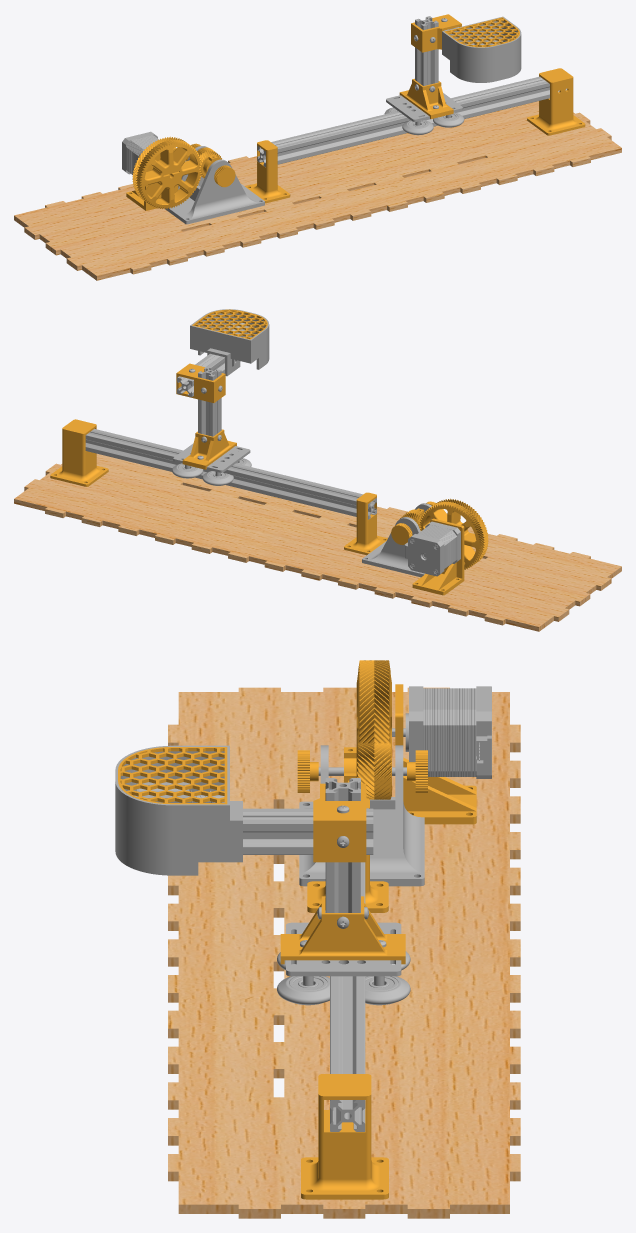
Rendered from foosball-concept.glb.
3 views of the same model, one above another, from view 1: azimuth 30°, elevation 25°; view 2: azimuth 150°, elevation 25°; view 3: azimuth 270°, elevation 25° (orthographic). The views are drawn at different scales.
Parts seen in each view (by area): view 1: Base final v1-1, Perfil40Cm-1, EngraneGrandeV3-1, BodyV4-1, SoporteEngraneChiquitoV3-1, AjustadorV4-1, TapaGolpeadorV5-1, SoportePerfil-1, DeslizadorSoportePerfilV4-1, Perfil10Cm-1, PerfilParaPerfil-1, Motor-1 (+4 smaller); view 2: Base final v1-1, Perfil40Cm-1, BodyV4-1, Motor-1, AjustadorV4-1, EngraneGrandeV3-1, SoporteEngraneChiquitoV3-1, TapaGolpeadorV5-1, SoportePerfil-1, SoporteMotorChiquitov2-1, DeslizadorSoportePerfilV4-1, PerfilParaPerfil-1 (+3 smaller); view 3: Base final v1-1, BodyV4-1, Motor-1, AjustadorV4-1, SoporteEngraneChiquitoV3-1, TapaGolpeadorV5-1, DeslizadorSoportePerfilV4-1, Perfil40Cm-1, Perfil10Cm-2, SoporteMotorChiquitov2-1, PerfilParaPerfil-1, EngraneGrandeV3-1 (+7 smaller).
Part boxes in pixels (x1,y1,x2,y2): Base final v1-1: [14, 101, 621, 280]; Perfil40Cm-1: [257, 76, 567, 167]; EngraneGrandeV3-1: [132, 136, 201, 209]; BodyV4-1: [442, 16, 521, 82]; SoporteEngraneChiquitoV3-1: [165, 146, 264, 224]; AjustadorV4-1: [527, 68, 585, 135]; TapaGolpeadorV5-1: [444, 17, 519, 47]; SoportePerfil-1: [245, 140, 290, 203]; DeslizadorSoportePerfilV4-1: [399, 78, 453, 118]; Perfil10Cm-1: [415, 16, 438, 85]; PerfilParaPerfil-1: [411, 14, 461, 52]; Motor-1: [122, 131, 159, 174]; Base final v1-1: [14, 453, 621, 631]; Perfil40Cm-1: [85, 429, 376, 519]; BodyV4-1: [190, 309, 269, 369]; Motor-1: [404, 521, 460, 576]; AjustadorV4-1: [50, 419, 108, 486]; EngraneGrandeV3-1: [419, 498, 488, 569]; SoporteEngraneChiquitoV3-1: [362, 503, 431, 577]; TapaGolpeadorV5-1: [192, 309, 267, 339]; SoportePerfil-1: [344, 492, 387, 555]; SoporteMotorChiquitov2-1: [412, 518, 464, 595]; DeslizadorSoportePerfilV4-1: [182, 429, 236, 469]; PerfilParaPerfil-1: [176, 363, 225, 402]; Base final v1-1: [168, 687, 520, 1218]; BodyV4-1: [115, 745, 229, 875]; Motor-1: [392, 686, 491, 778]; AjustadorV4-1: [301, 1074, 388, 1199]; SoporteEngraneChiquitoV3-1: [299, 745, 424, 886]; TapaGolpeadorV5-1: [118, 747, 227, 804]; DeslizadorSoportePerfilV4-1: [280, 896, 405, 964]; Perfil40Cm-1: [330, 862, 365, 1131]; Perfil10Cm-2: [243, 808, 373, 854]; SoporteMotorChiquitov2-1: [395, 684, 476, 824]; PerfilParaPerfil-1: [313, 783, 366, 862]; EngraneGrandeV3-1: [356, 660, 391, 746].
Size of the model in its own units: 0.7 by 0.1911 by 0.2298.
20 materials, 1 textured.
